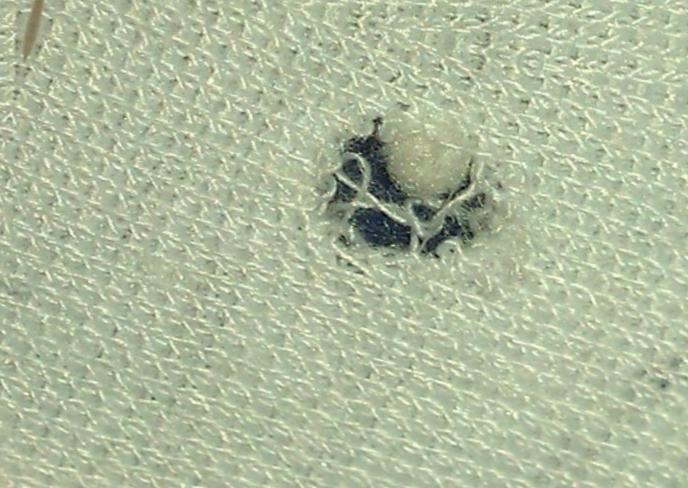hole: (361, 90, 498, 213)
